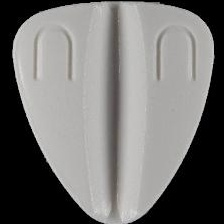61919-802: (0, 0, 224, 224)
